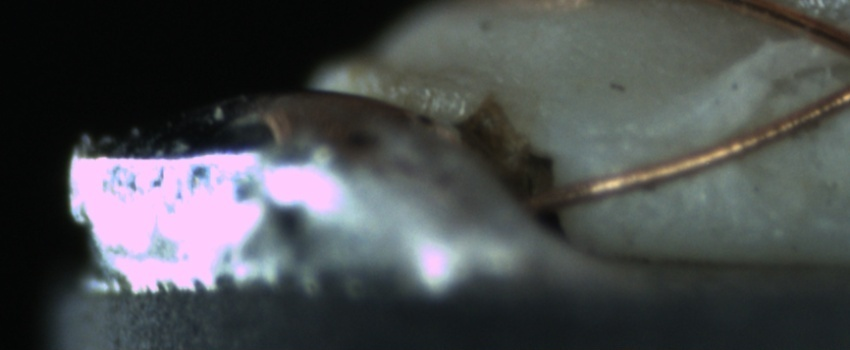DL: (575, 114, 691, 163)
